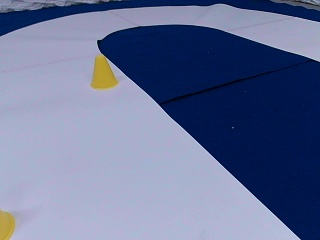cone: (90, 55, 117, 88), (0, 209, 14, 238)
